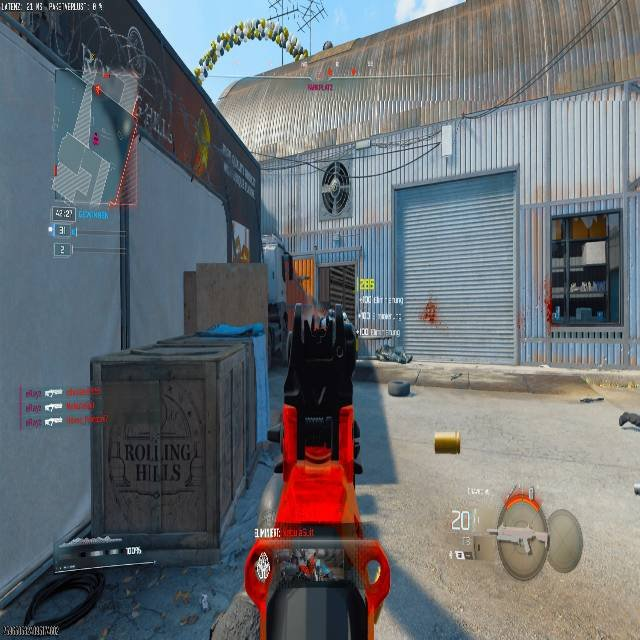player: (321, 160, 350, 216)
